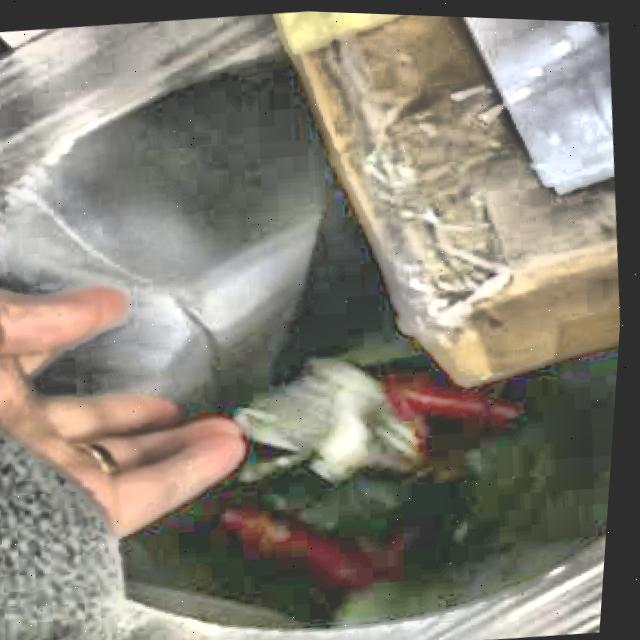metal: (238, 357, 423, 479)
